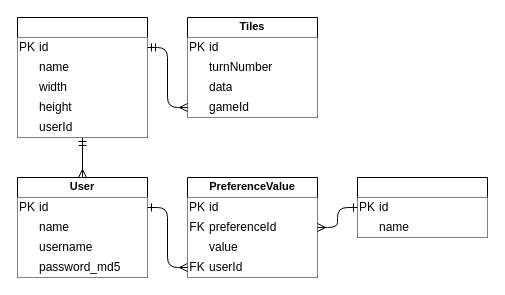
This 505x295 diagram has some shape labels left out. Here are the shapes that lost their labels. From the top down, the box of each, then its label:
(16, 16, 148, 138): Game
(356, 176, 488, 238): Preference
